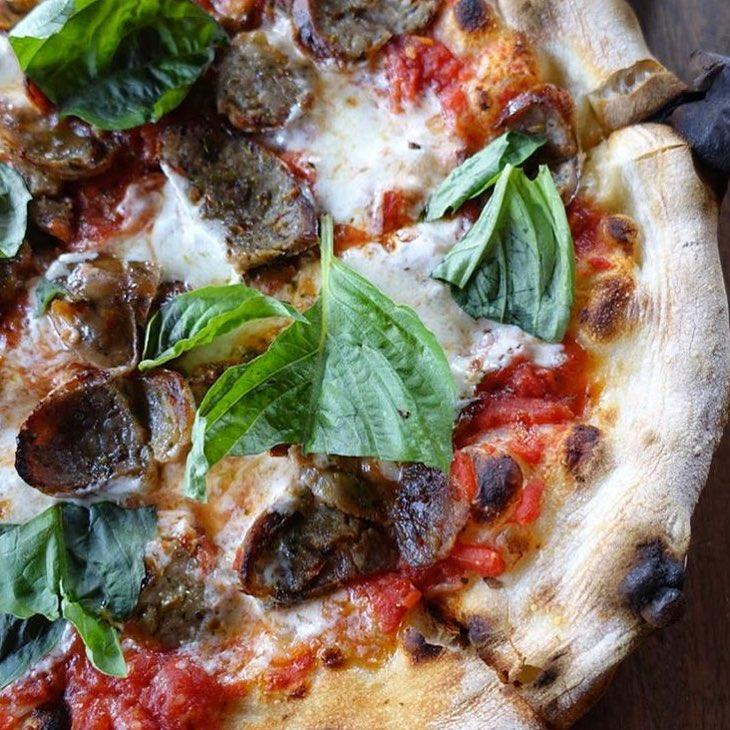Basil: (181, 208, 463, 506), (0, 488, 167, 692), (6, 0, 233, 142), (433, 159, 577, 350), (132, 276, 322, 381), (413, 126, 553, 225)
Ham: (206, 444, 478, 610), (134, 102, 331, 280), (0, 361, 204, 501), (33, 243, 197, 369), (109, 500, 236, 652), (0, 85, 136, 187), (208, 28, 327, 137), (277, 0, 449, 73)
Pizza: (0, 0, 730, 730)
